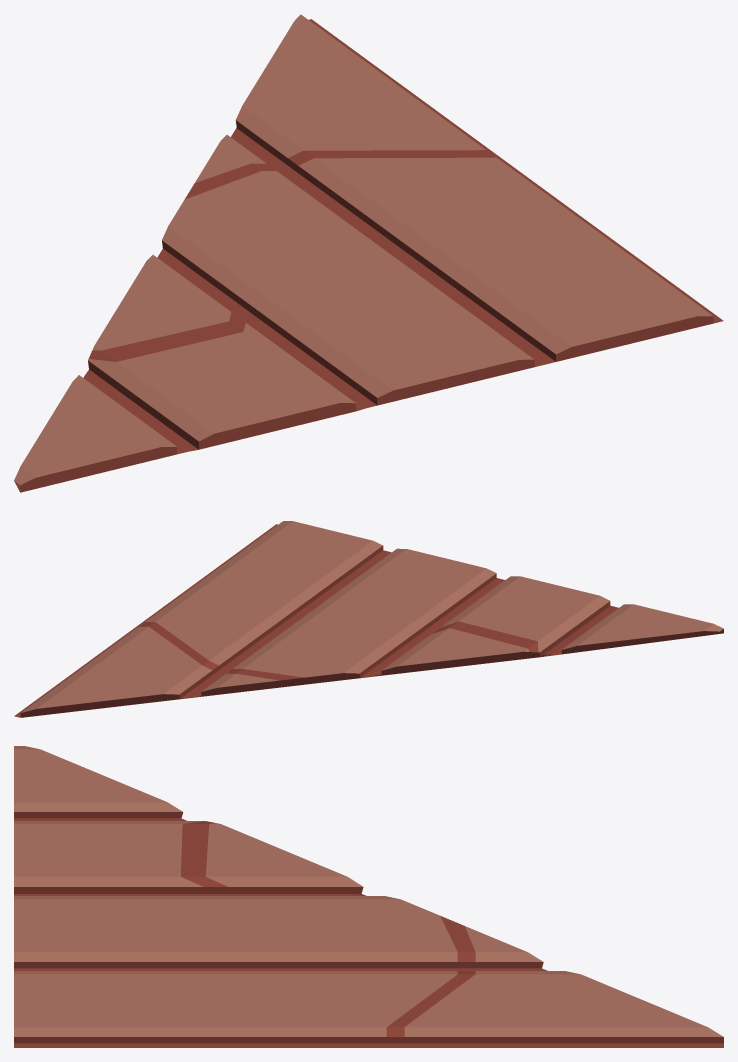
Rendered from Floor_sliced.fbx.
The picture shows the model from 3 angles, top to bottom: view 1: azimuth 30°, elevation 25°; view 2: azimuth 150°, elevation 25°; view 3: azimuth 270°, elevation 25°; orthographic projection. The views are drawn at different scales.
Visible parts, largest first — view 1: Floor_2m .003; view 2: Floor_2m .003; view 3: Floor_2m .003.
Boxes of the visible parts, x1,y1,x2,y2 form: Floor_2m .003: (14, 14, 723, 492); Floor_2m .003: (14, 521, 723, 717); Floor_2m .003: (14, 746, 723, 1047).
Bounding box in the file's own units: 197 × 3.3 × 200.
